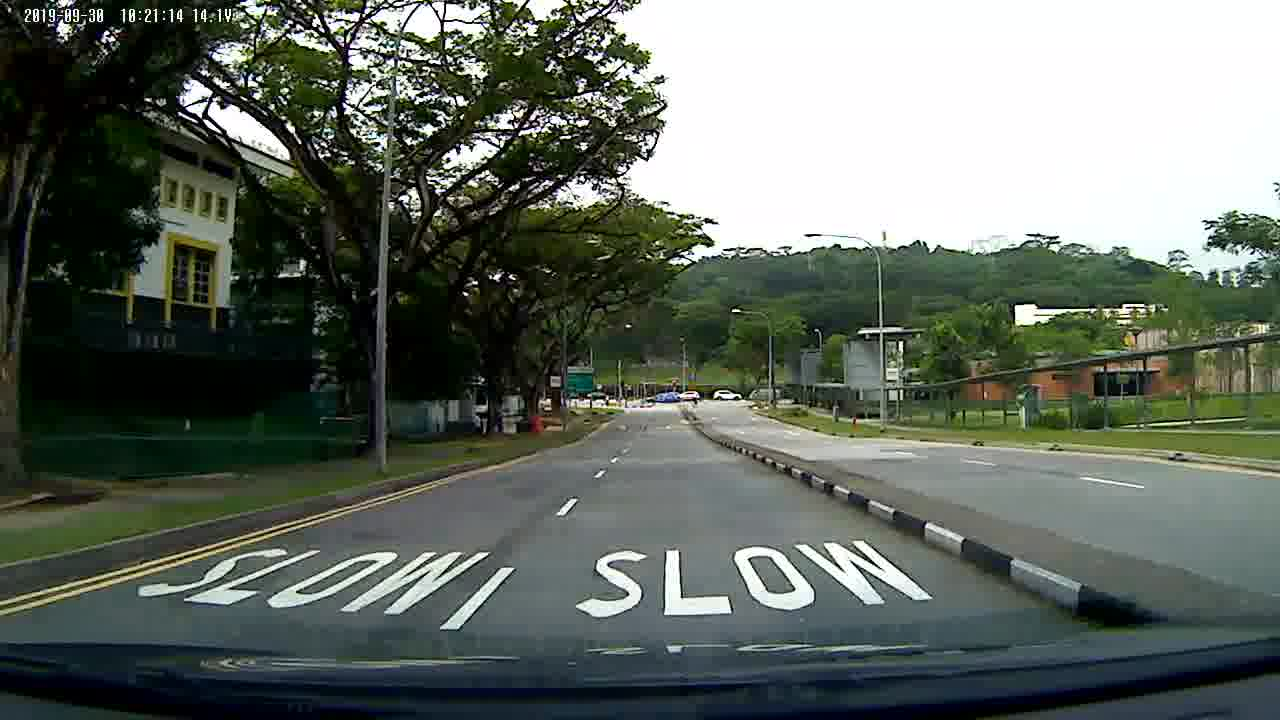car: (712, 388, 746, 403), (681, 390, 703, 403)
